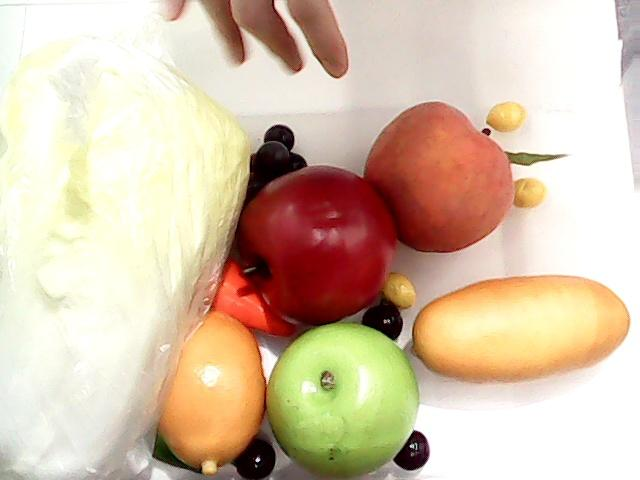apple: (237, 164, 403, 328), (262, 320, 420, 480)
carrot: (208, 256, 292, 336)
lemon: (143, 290, 277, 480)
mango: (411, 275, 634, 385)
napa cabbage: (0, 36, 246, 480)
peach: (366, 100, 518, 252)
